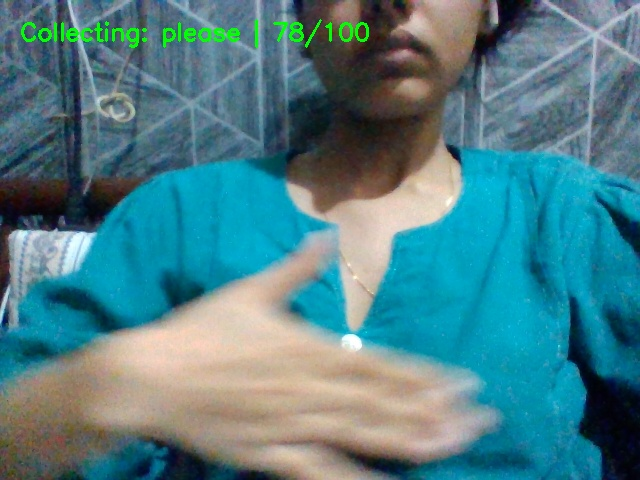please: (112, 226, 517, 472)
